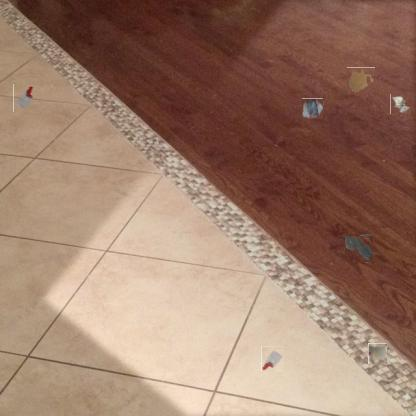dirty: (261, 346, 284, 372), (13, 84, 34, 112), (302, 98, 324, 119), (390, 94, 411, 114), (368, 343, 387, 364)
liquid: (347, 67, 375, 94), (346, 234, 373, 262)
